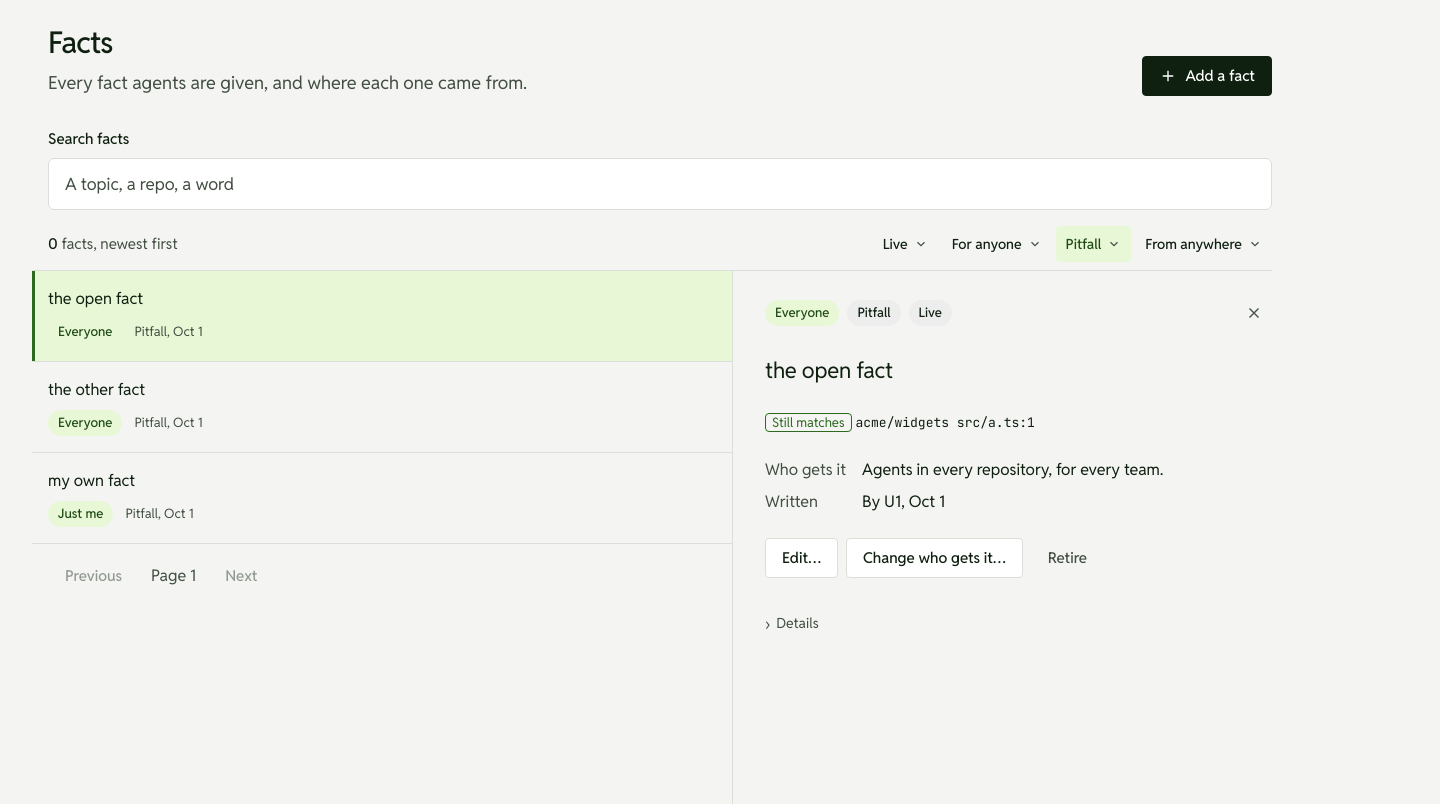
Test: the open fact's actions › Change who gets it… offers the anchor's repo, sends the move, then reloads the fact at its new level
The image size is (1440, 804).
Expected: the 2nd text "the open fact" is shown, [765,356,893,384]
Click the button "Change who gets it…": coordinates (934, 558) [846,538,1023,578]
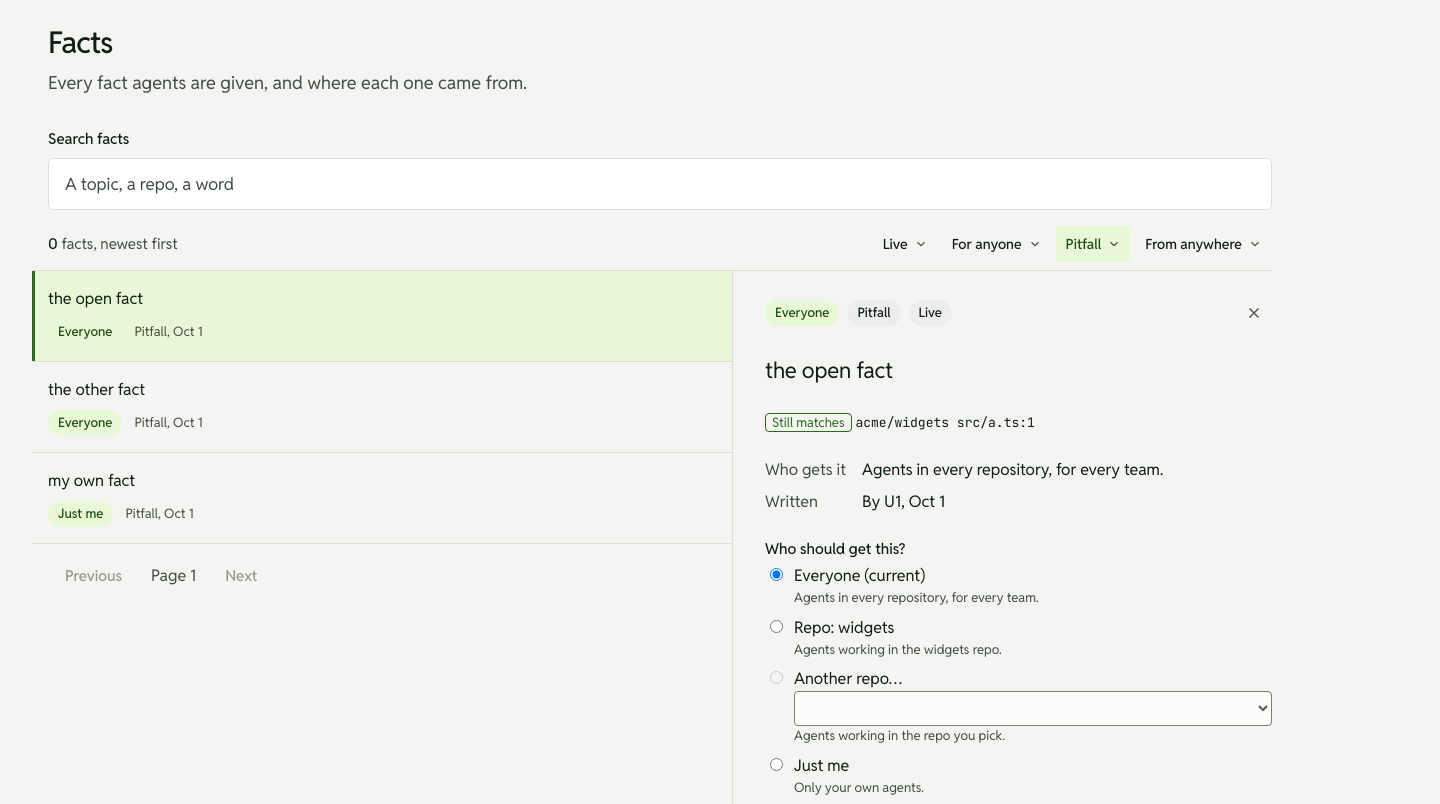
Expected: the radio button labelled "Everyone (current)" is checked, [770,568,783,581]
Click the radio button labelled "Repo: widgets": coordinates (776, 626) [770,620,783,633]
(page scrolled)
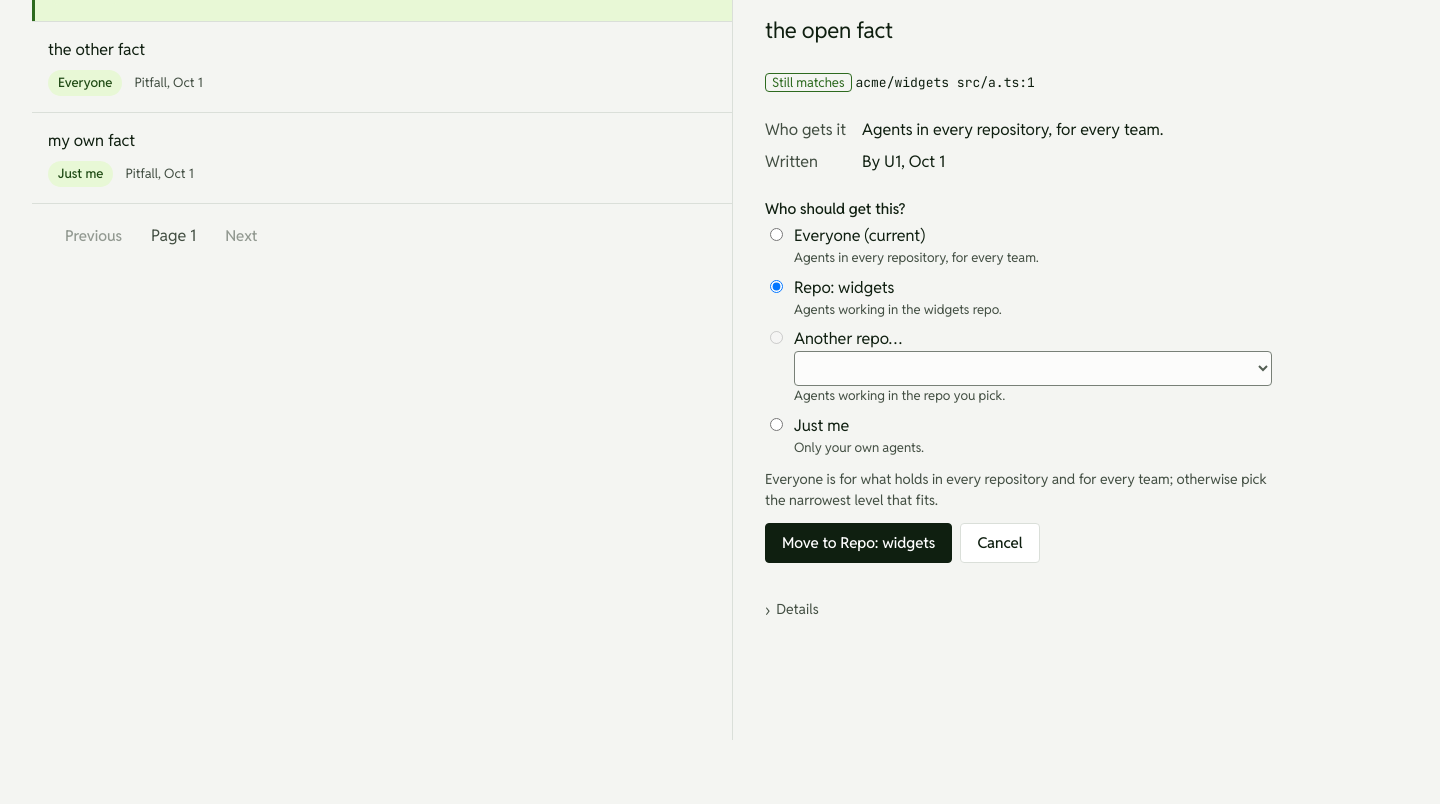
Expected: the button "Move to Repo: widgets" is shown
Expected: the button "Move to Repo: widgets" is enabled
Click the button "Move to Repo: widgets": coordinates (859, 543) [765,523,952,563]
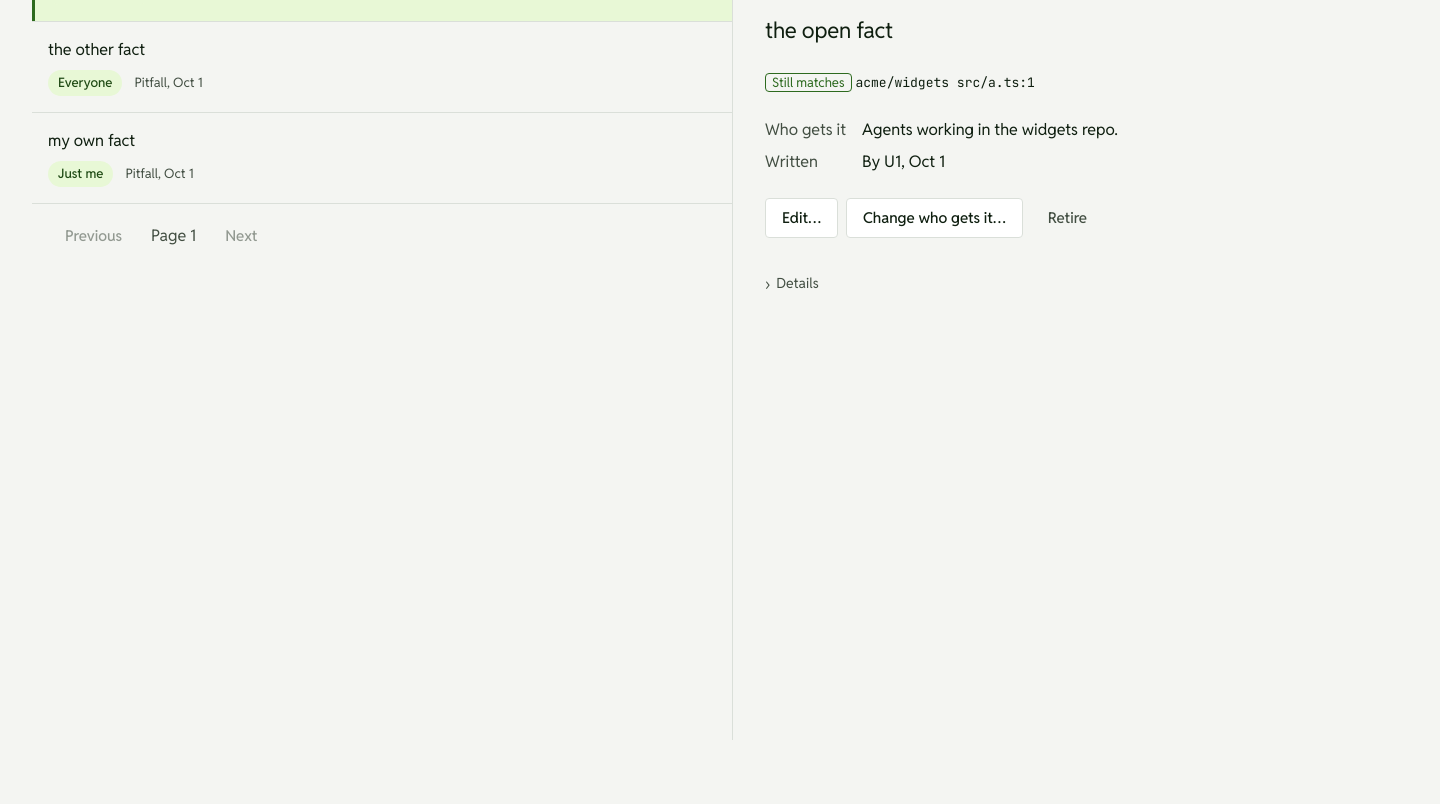
Expected: the text "Agents working in the widgets repo." is shown, [862,119,1118,140]
